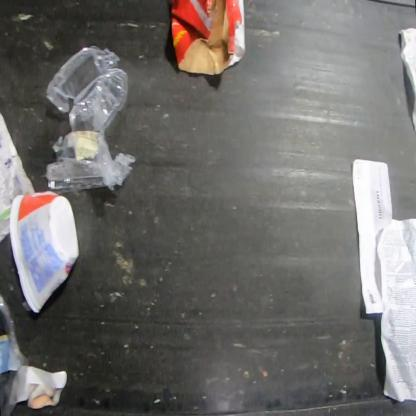cardboard: (170, 0, 246, 76)
rigid_plastic: (46, 46, 138, 196), (8, 190, 81, 315)
soft_plastic: (0, 289, 30, 415)
